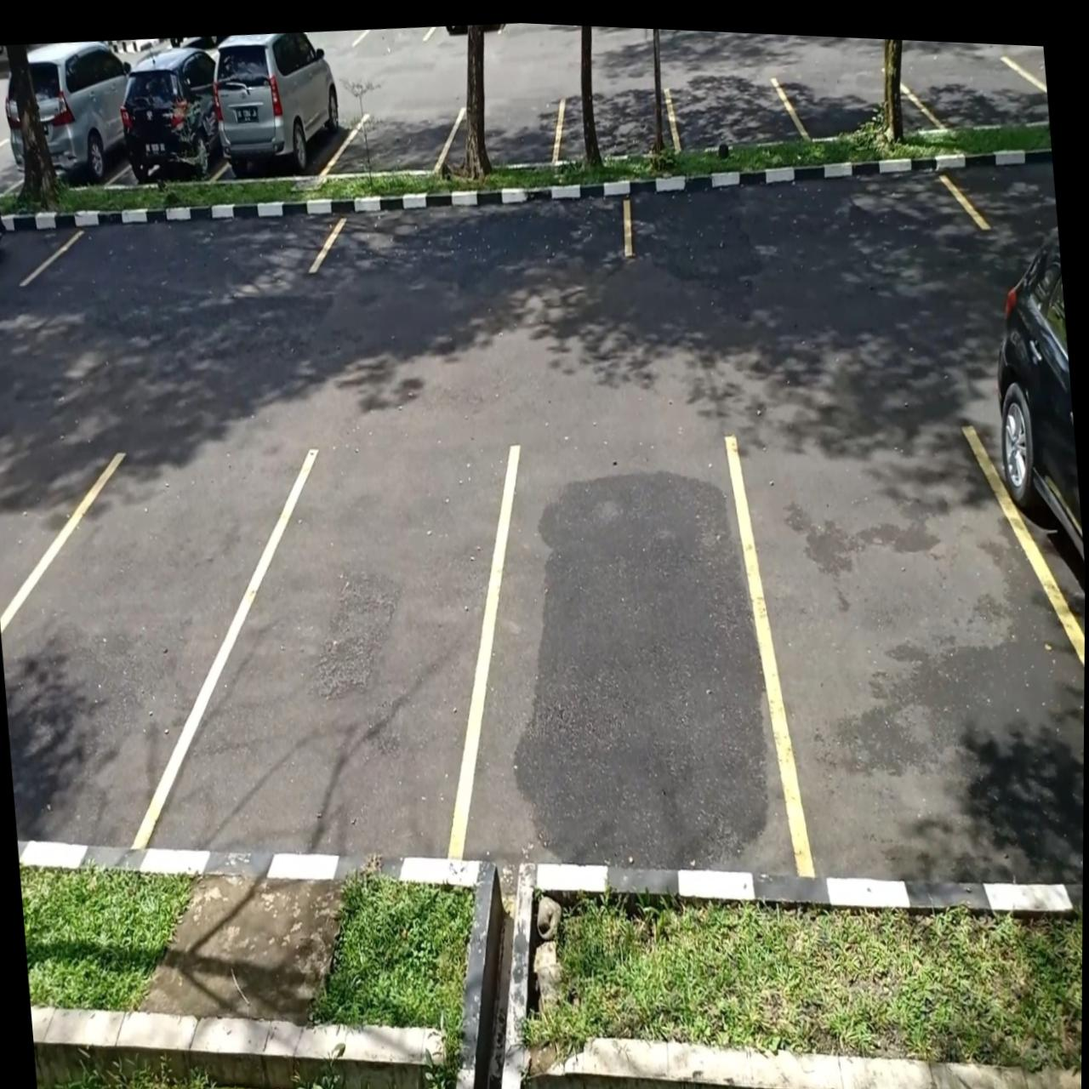cars: (217, 113, 364, 178)
empty: (735, 428, 1084, 876), (146, 449, 511, 857), (463, 438, 798, 876), (1, 450, 310, 849), (630, 177, 982, 257), (316, 202, 625, 273), (26, 219, 340, 286), (776, 71, 940, 138), (890, 59, 1049, 128), (670, 80, 803, 149), (327, 109, 460, 174), (440, 99, 561, 170), (559, 90, 675, 160)
